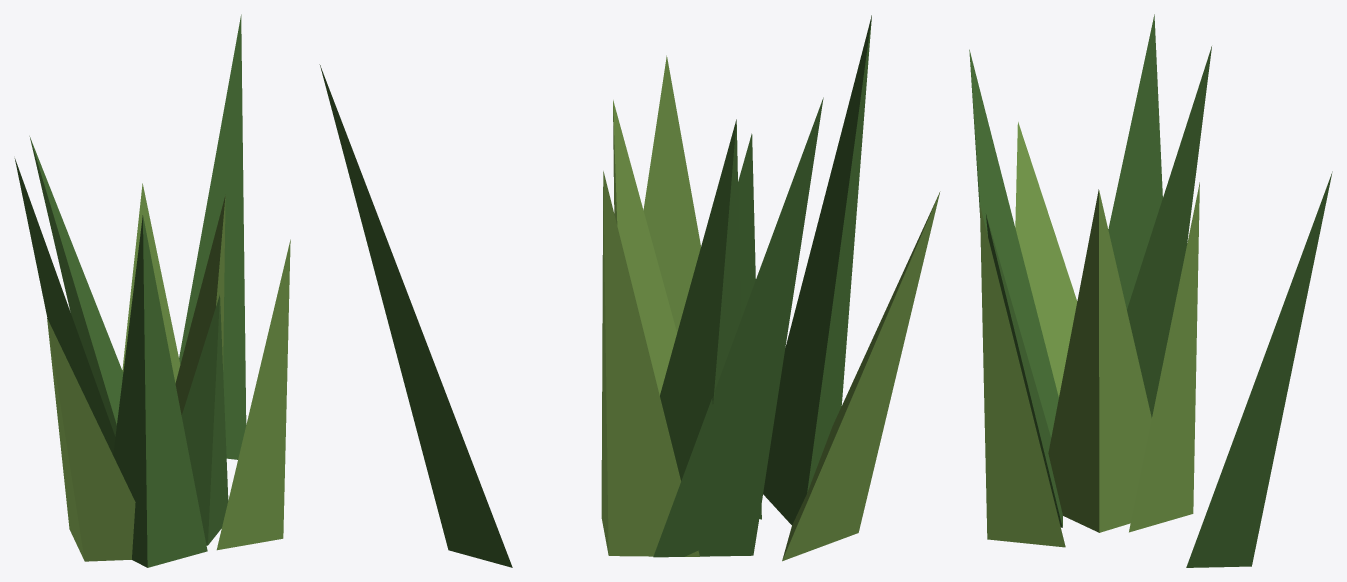
The model's file is grass_tuft_a.fbx.
The picture shows the model from 3 angles, left to right: view 1: azimuth 30°, elevation 25°; view 2: azimuth 150°, elevation 25°; view 3: azimuth 270°, elevation 25°; orthographic projection. The views are drawn at different scales.
Visible parts, largest first — view 1: grass_tuft_a; view 2: grass_tuft_a; view 3: grass_tuft_a.
Part boxes in pixels (box(x1,y1,x2,y2)): grass_tuft_a: box(14, 14, 290, 567); grass_tuft_a: box(319, 15, 940, 567); grass_tuft_a: box(969, 14, 1332, 567).
Size of the model in its own units: 0.3153 by 0.3457 by 0.2649.
